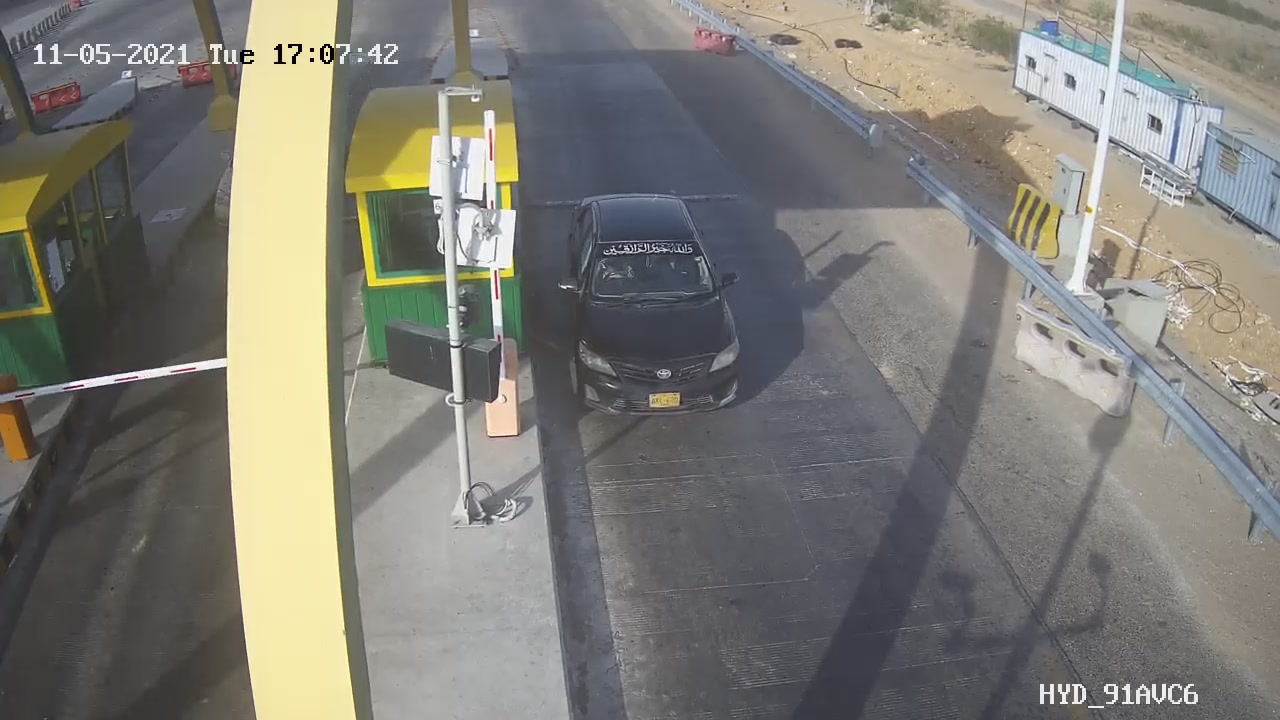F1: (543, 172, 770, 440)
